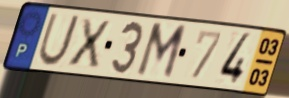3: (109, 19, 146, 76)
4: (216, 30, 255, 88)
7: (191, 28, 225, 82)
M: (133, 21, 190, 82)
U: (36, 12, 83, 69)
X: (65, 16, 113, 70)
